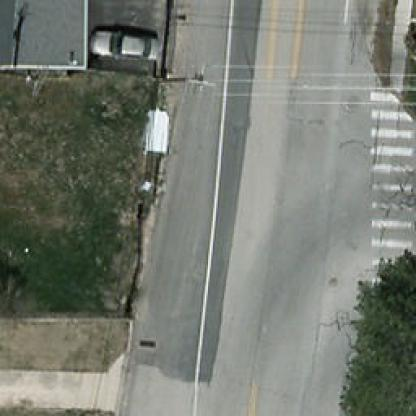car: (88, 30, 161, 64)
